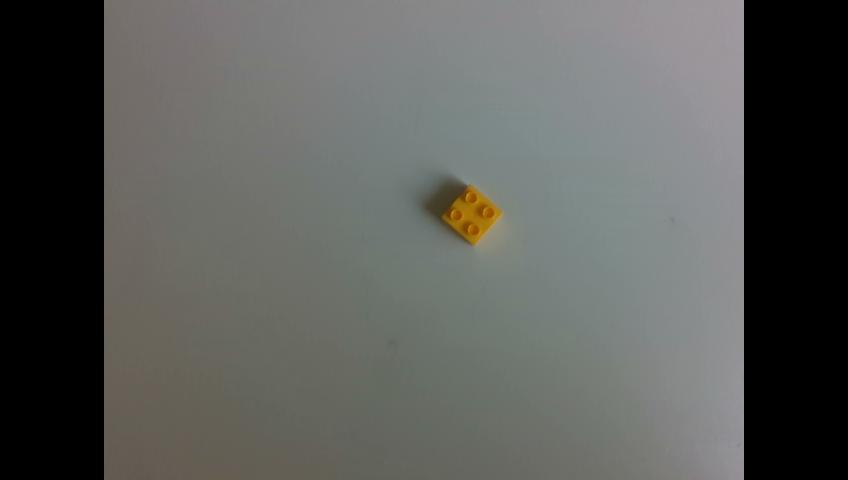2x2_yellow: (441, 183, 501, 243)
